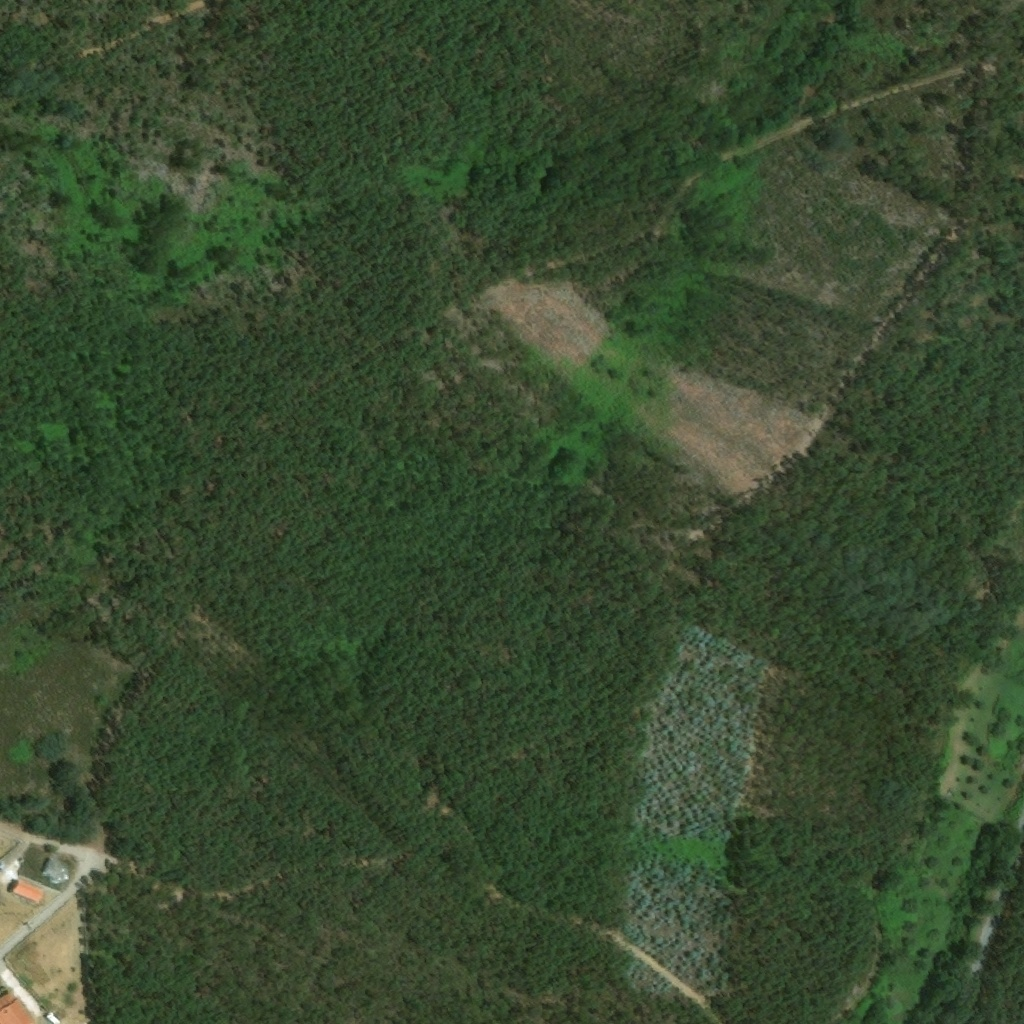0 no-damage: (0, 991, 36, 1023), (40, 856, 70, 886), (46, 1012, 61, 1023)
